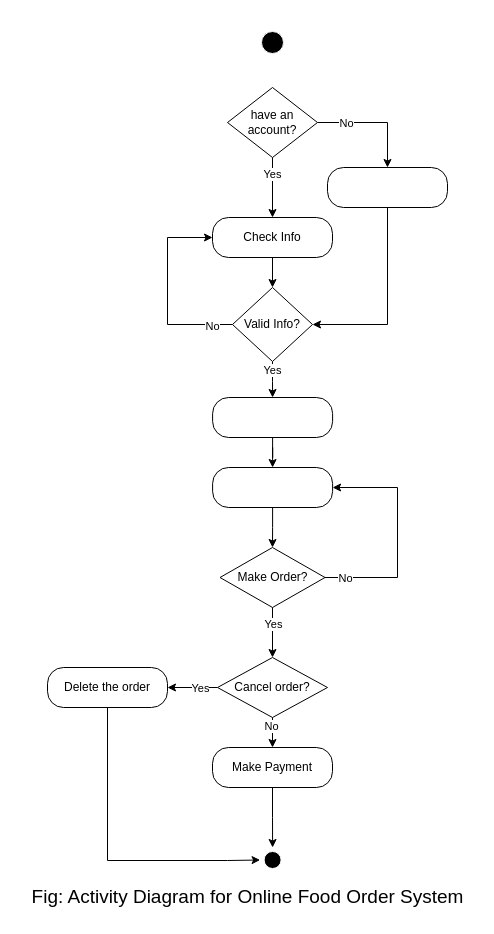
This 494x934 diagram has some shape labels left out. Here are the shapes that lost their labels. From the top down, the centre of each, then its label:
At [387,187]: "Create Account".
At [272,417]: "Show Menu/Categories".
At [272,487]: "Choose Food Item".
